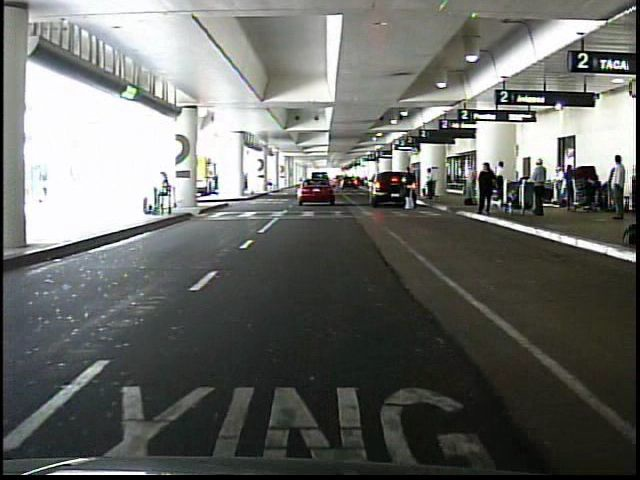person: (608, 156, 627, 222), (530, 157, 549, 218), (476, 160, 495, 214), (154, 172, 175, 219), (550, 168, 567, 205), (564, 164, 577, 210), (403, 166, 416, 212), (494, 160, 506, 202), (426, 168, 438, 203)
